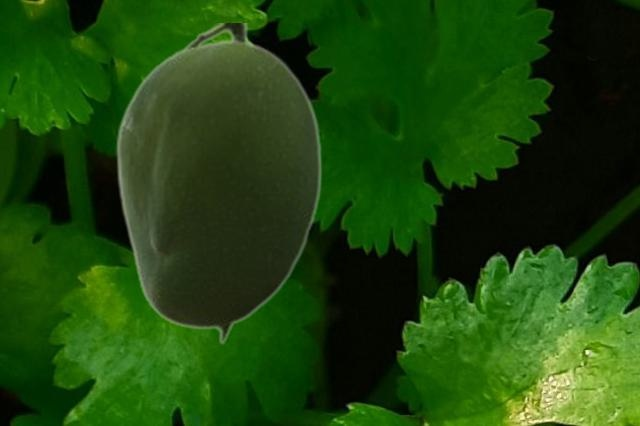green_mango: (114, 23, 321, 344)
